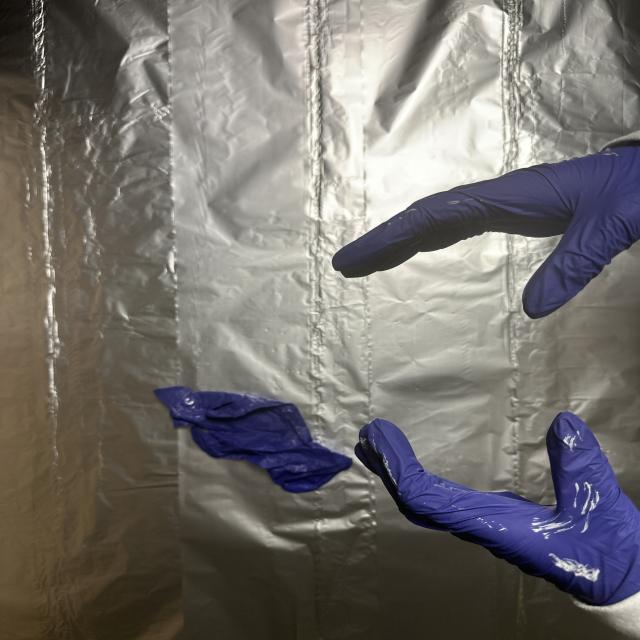gloves_contaminated: (355, 412, 640, 614), (332, 144, 640, 319)
